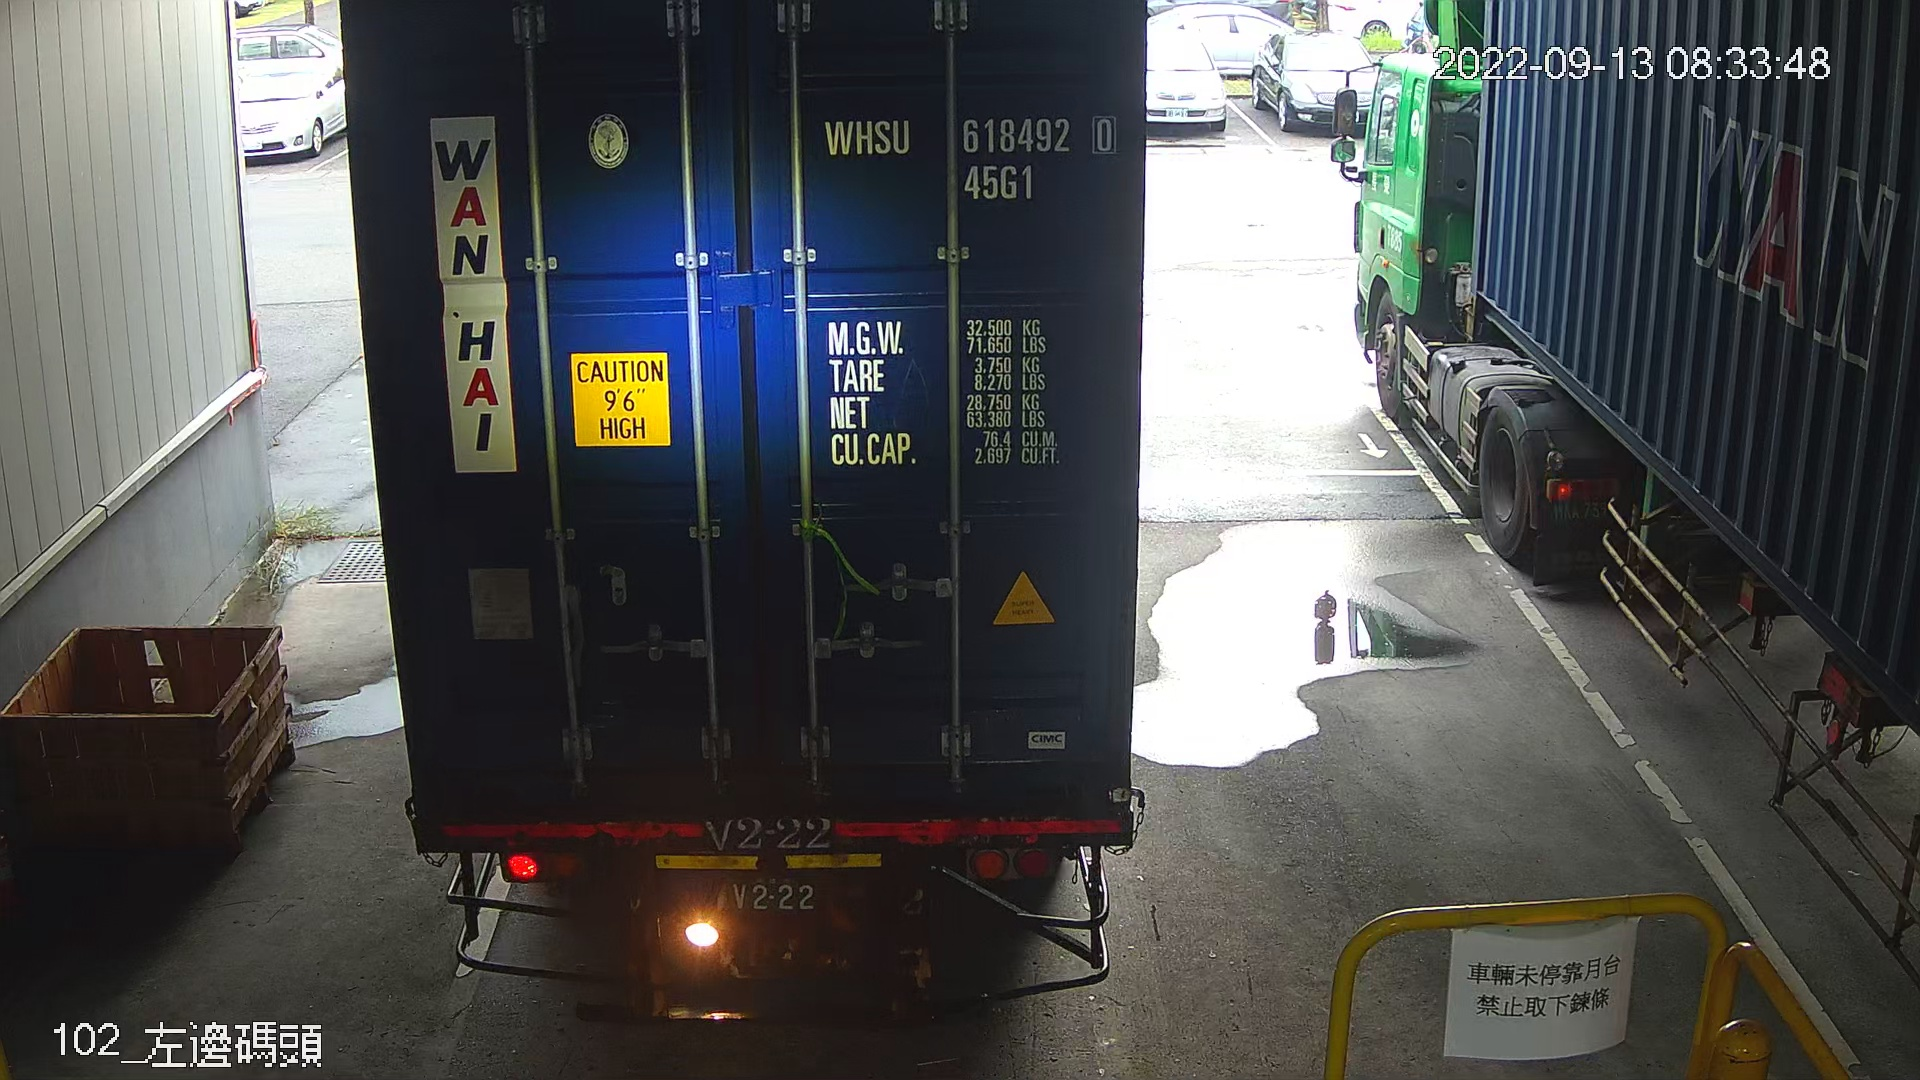container: (812, 104, 1131, 211)
